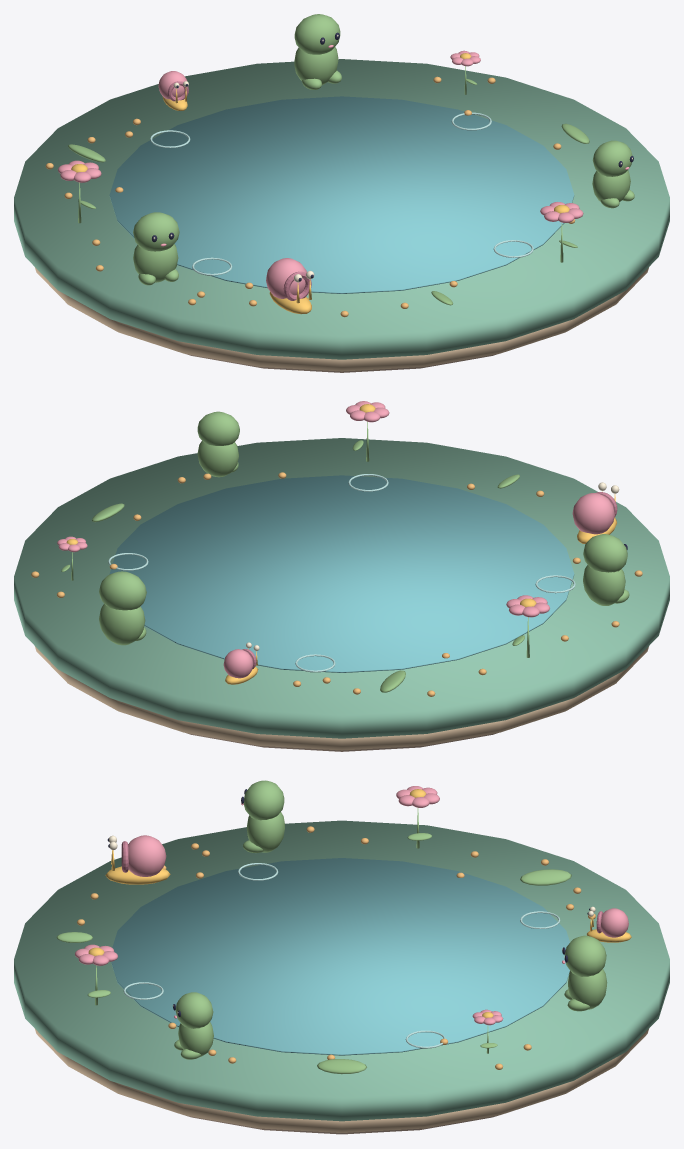
The model's file is world.glb.
The picture shows the model from 3 angles, top to bottom: view 1: azimuth 30°, elevation 25°; view 2: azimuth 150°, elevation 25°; view 3: azimuth 270°, elevation 25°; orthographic projection.
Visible parts, largest first — view 1: Cone, Cone.003, Cone.001, frog.001, frog.002, frog.003, snail.002, snail.001, flower.002, flower.003, Cone.002; view 2: Cone, Cone.003, Cone.001, frog.001, frog.002, frog.003, snail.002, snail.001, flower.002, flower.003, Cone.002; view 3: Cone, Cone.003, Cone.001, frog.001, frog.002, snail.002, frog.003, snail.001, flower.002, flower.003, leaf.002, leaf.001 (+1 smaller).
Boxes of the visible parts, <box> form: Cone: <box>14,59,669,359</box>; Cone.003: <box>109,96,574,293</box>; Cone.001: <box>35,267,648,371</box>; frog.001: <box>294,14,341,89</box>; frog.002: <box>133,212,179,285</box>; frog.003: <box>592,140,634,208</box>; snail.002: <box>266,258,314,314</box>; snail.001: <box>158,71,188,110</box>; flower.002: <box>57,160,101,223</box>; flower.003: <box>540,202,583,262</box>; Cone.002: <box>186,354,497,372</box>; Cone: <box>14,438,669,738</box>; Cone.003: <box>109,475,574,672</box>; Cone.001: <box>35,646,648,750</box>; frog.001: <box>99,571,146,645</box>; frog.002: <box>583,534,629,605</box>; frog.003: <box>197,411,239,477</box>; snail.002: <box>572,482,619,543</box>; snail.001: <box>223,642,259,684</box>; flower.002: <box>506,595,549,657</box>; flower.003: <box>346,401,389,461</box>; Cone.002: <box>186,733,497,751</box>; Cone: <box>14,820,669,1121</box>; Cone.003: <box>111,858,570,1055</box>; Cone.001: <box>34,1028,649,1132</box>; frog.001: <box>562,935,607,1011</box>; frog.002: <box>241,780,284,852</box>; snail.002: <box>105,835,170,884</box>; frog.003: <box>172,992,213,1059</box>; snail.001: <box>586,906,631,942</box>; flower.002: <box>396,786,439,848</box>; flower.003: <box>75,944,117,1005</box>; leaf.002: <box>520,869,571,885</box>; leaf.001: <box>317,1059,366,1074</box>.
Bounding box in the file's own units: 9.6 × 1.88 × 9.6.
